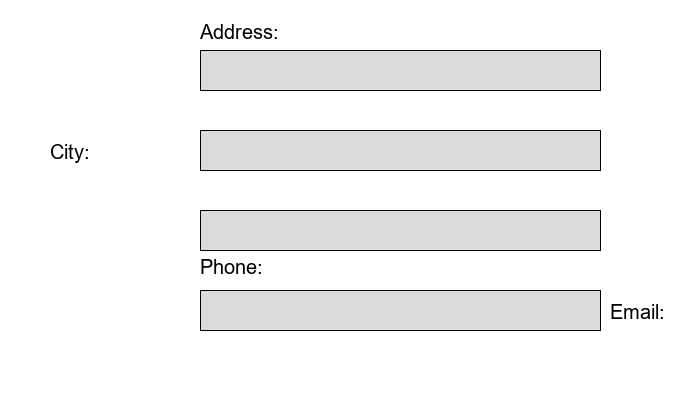Label: (200, 20, 274, 35), (200, 255, 257, 270), (610, 300, 659, 315), (50, 140, 84, 159)
Textbox: (200, 50, 600, 90), (200, 130, 600, 170), (200, 210, 600, 250), (200, 290, 600, 330)
